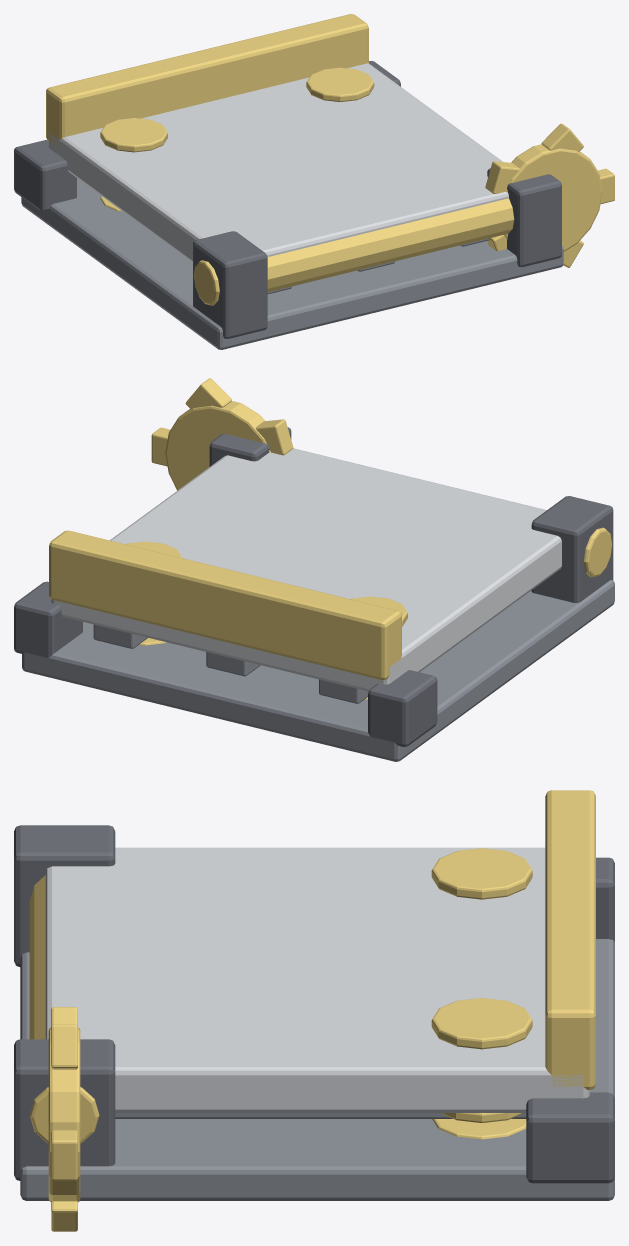
File: trap_launcher.glb
The picture shows the model from 3 angles, top to bottom: view 1: azimuth 30°, elevation 25°; view 2: azimuth 150°, elevation 25°; view 3: azimuth 270°, elevation 25°; orthographic projection. The views are drawn at different scales.
Parts seen in each view (by area): view 1: PlateBody, Base, PlateLip, Hinge, Ear-40, HingeGear, Ear40, Stop-44, Spring28R4, Spring-28R4, HingeGearT2, HingeGearT1 (+1 smaller); view 2: PlateBody, Base, PlateLip, Ear-40, HingeGear, Stop-44, Stop44, Ear40, Hinge, HingeGearT2, PlateRib2, PlateRib1 (+3 smaller); view 3: PlateBody, Base, PlateLip, Stop44, Ear40, Ear-40, Hinge, Spring28R4, Spring-28R4, HingeGear, PlateRib2, Stop-44 (+5 smaller).
Boxes of the visible parts, x1=… form: PlateBody: x1=48, y1=63, x2=508, y2=262; Base: x1=21, y1=178, x2=563, y2=349; PlateLip: x1=46, y1=14, x2=368, y2=146; Hinge: x1=194, y1=198, x2=514, y2=305; Ear-40: x1=193, y1=231, x2=267, y2=338; HingeGear: x1=504, y1=144, x2=602, y2=251; Ear40: x1=487, y1=168, x2=561, y2=267; Stop-44: x1=14, y1=140, x2=76, y2=211; Spring28R4: x1=306, y1=67, x2=374, y2=101; Spring-28R4: x1=100, y1=118, x2=167, y2=152; HingeGearT2: x1=485, y1=161, x2=519, y2=193; HingeGearT1: x1=541, y1=123, x2=583, y2=151; PlateBody: x1=51, y1=448, x2=561, y2=691; Base: x1=22, y1=580, x2=614, y2=761; PlateLip: x1=49, y1=530, x2=401, y2=680; Ear-40: x1=531, y1=496, x2=613, y2=602; HingeGear: x1=165, y1=401, x2=270, y2=490; Stop-44: x1=368, y1=670, x2=437, y2=746; Stop44: x1=14, y1=581, x2=82, y2=657; Ear40: x1=209, y1=427, x2=291, y2=466; Hinge: x1=583, y1=527, x2=612, y2=577; HingeGearT2: x1=256, y1=419, x2=293, y2=455; PlateRib2: x1=93, y1=624, x2=147, y2=648; PlateRib1: x1=206, y1=652, x2=260, y2=676; PlateBody: x1=45, y1=847, x2=589, y2=1112; Base: x1=20, y1=939, x2=614, y2=1200; PlateLip: x1=545, y1=790, x2=595, y2=1089; Stop44: x1=526, y1=1092, x2=614, y2=1183; Ear40: x1=14, y1=1039, x2=115, y2=1180; Ear-40: x1=14, y1=825, x2=115, y2=966; Hinge: x1=29, y1=875, x2=99, y2=1143; Spring28R4: x1=431, y1=998, x2=532, y2=1049; Spring-28R4: x1=431, y1=848, x2=532, y2=899; HingeGear: x1=48, y1=1027, x2=80, y2=1202; PlateRib2: x1=115, y1=1113, x2=526, y2=1118; Stop-44: x1=596, y1=857, x2=614, y2=941.
Bounding box in the file's own units: 1.13 × 0.3608 × 0.95.
